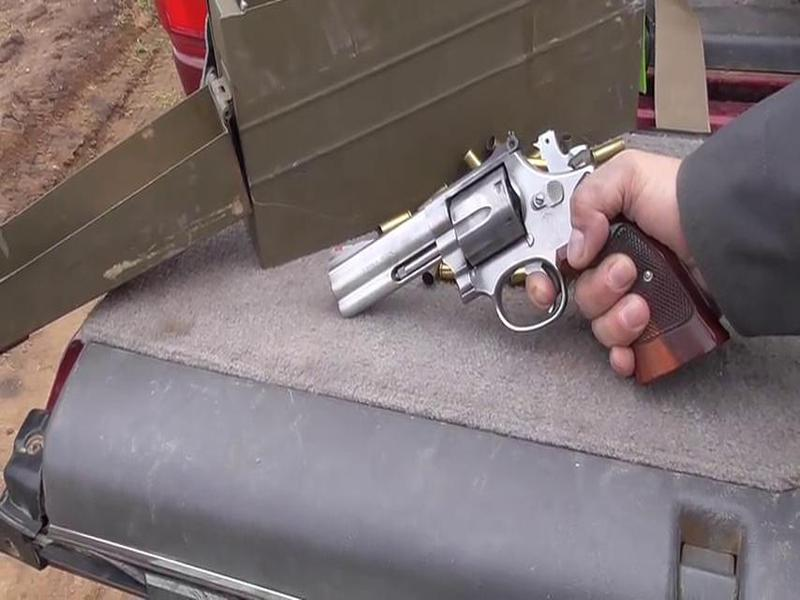Revolver: (320, 136, 634, 378)
